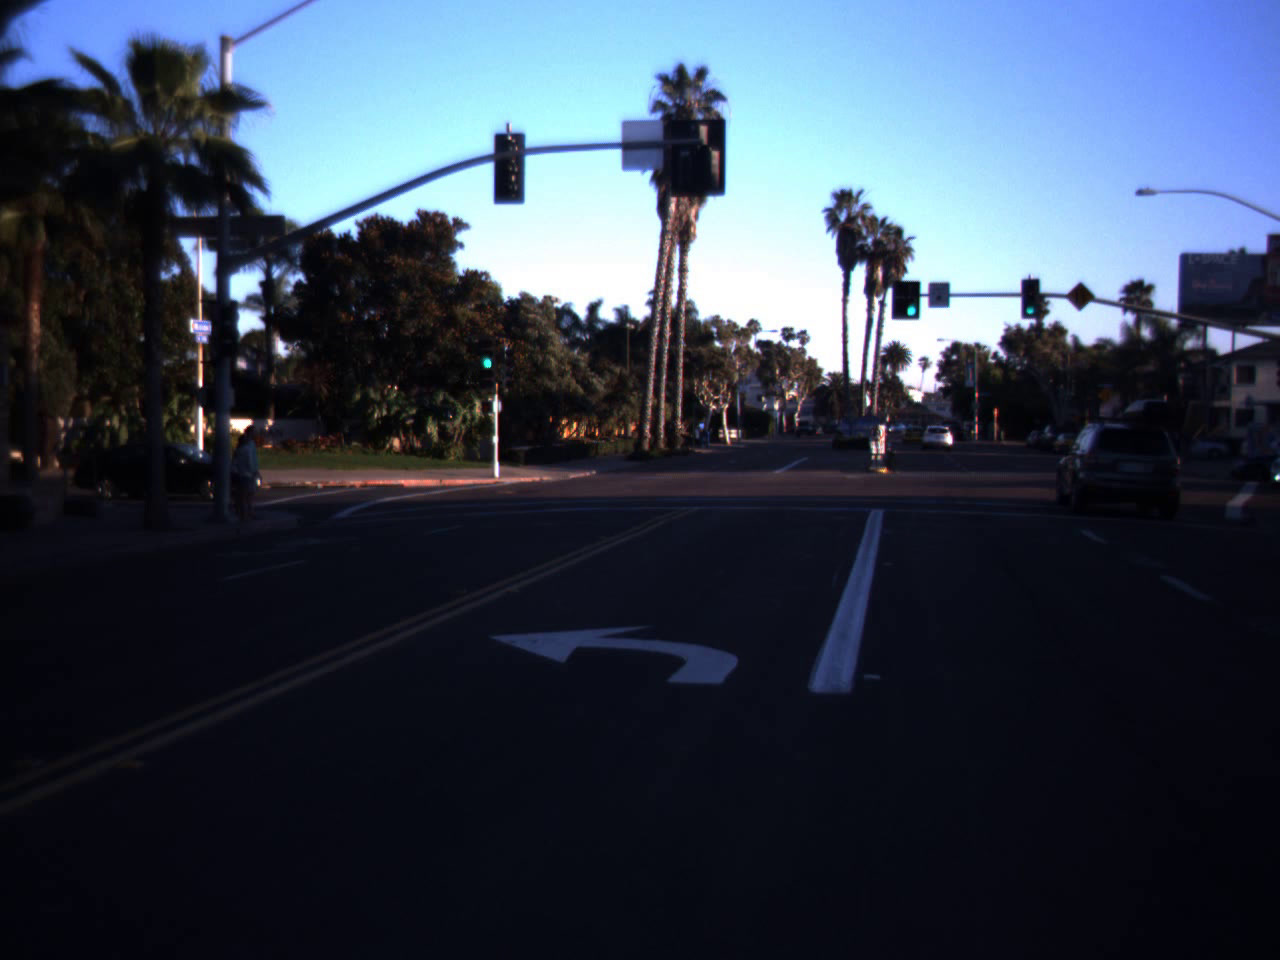go: (901, 279, 922, 319), (478, 327, 496, 372), (1023, 291, 1038, 316)
